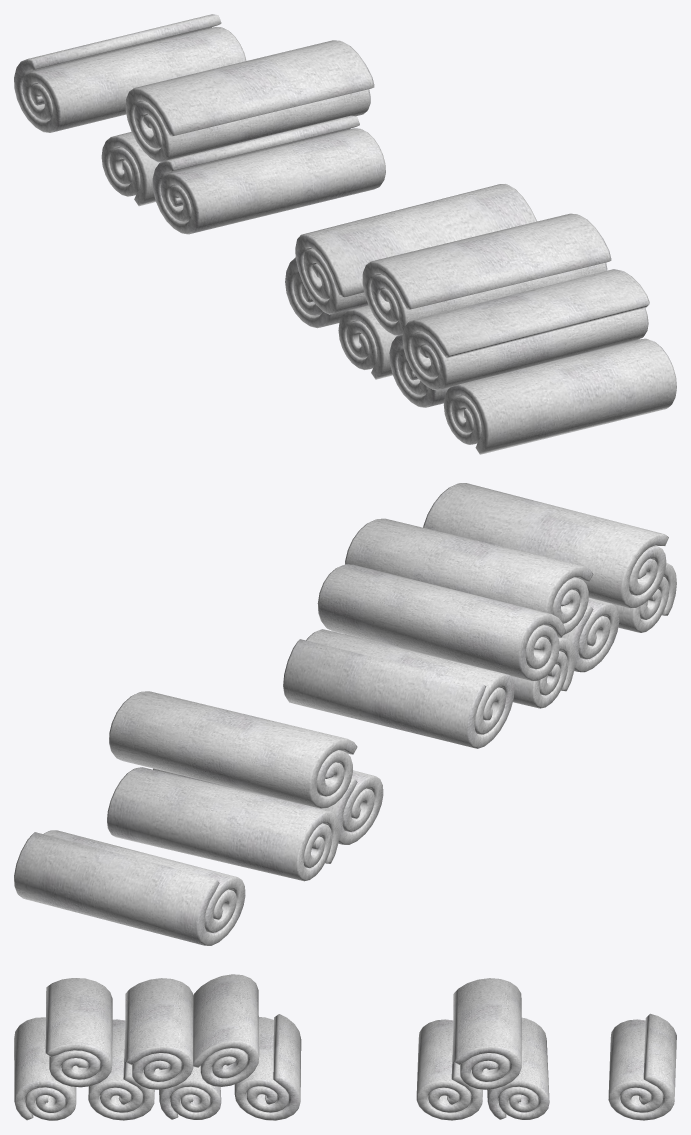
The picture shows the model from 3 angles, top to bottom: view 1: azimuth 30°, elevation 25°; view 2: azimuth 150°, elevation 25°; view 3: azimuth 270°, elevation 25°; orthographic projection. The views are drawn at different scales.
Visible parts, largest first — view 1: Helix006__0, Object002__0, Object003__0; view 2: Helix006__0, Object002__0, Object003__0; view 3: Helix006__0, Object002__0, Object003__0.
Part boxes in pixels (bbox=[...]): Helix006__0: bbox=[285, 184, 676, 454]; Object002__0: bbox=[101, 40, 385, 234]; Object003__0: bbox=[14, 14, 246, 132]; Helix006__0: bbox=[283, 483, 676, 748]; Object002__0: bbox=[107, 691, 383, 881]; Object003__0: bbox=[14, 830, 245, 945]; Helix006__0: bbox=[14, 974, 301, 1120]; Object002__0: bbox=[416, 978, 549, 1120]; Object003__0: bbox=[608, 1013, 676, 1120].
Bounding box in the file's own units: 64.89 × 32.61 × 241.
Materials: 1 (1 with a texture image).
